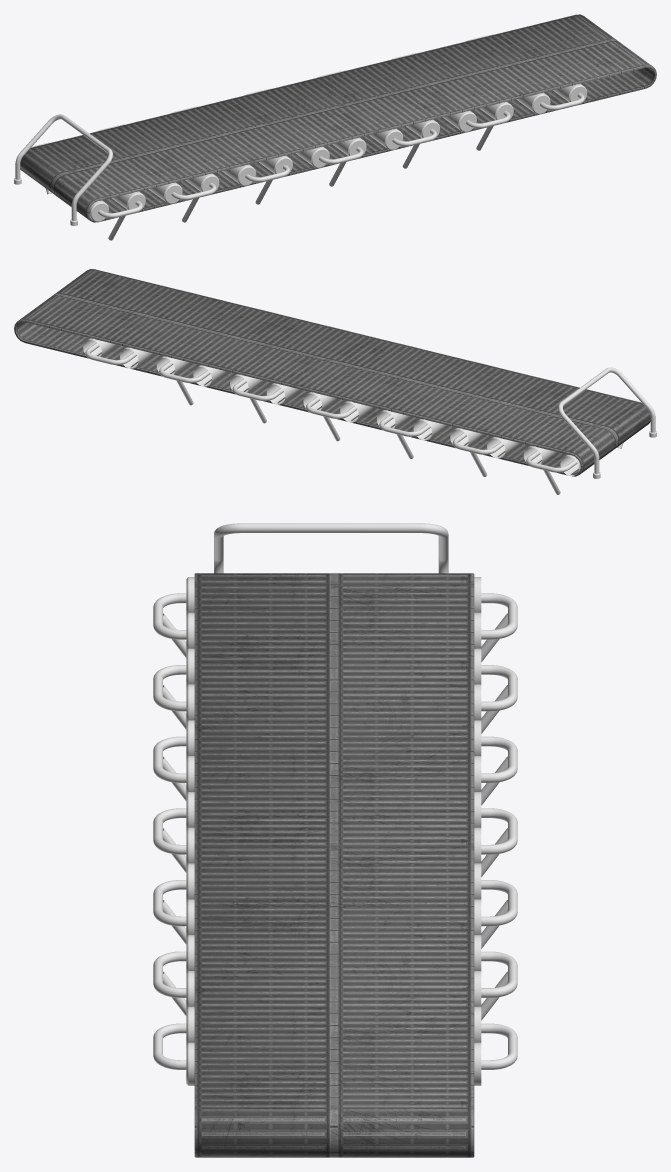
The model's file is ConveyerBelt.fbx.
3 renders of one model, top to bottom at view 1: azimuth 30°, elevation 25°; view 2: azimuth 150°, elevation 25°; view 3: azimuth 270°, elevation 25°, orthographic. The views are drawn at different scales.
Parts seen in each view (by area): view 1: ConveyerBelt, ConveyerSupport, ConveyerRoll.012, ConveyerRoll.008, ConveyerRoll.004, ConveyerRoll.010, ConveyerRoll.002, ConveyerRoll.006, ConveyerRoll.007, ConveyerRoll.011, ConveyerRoll.013, ConveyerRoll.003 (+3 smaller); view 2: ConveyerBelt, ConveyerSupport, ConveyerRoll.006, ConveyerRoll.004, ConveyerRoll.008, ConveyerRoll.010, ConveyerRoll.012, ConveyerRoll.002, ConveyerRoll.003, ConveyerRoll.009, ConveyerRoll.011, ConveyerRoll.013 (+3 smaller); view 3: ConveyerBelt, ConveyerSupport.
Part boxes in pixels (bbox=[...]): ConveyerBelt: bbox=[20, 14, 656, 222]; ConveyerSupport: bbox=[14, 34, 584, 240]; ConveyerRoll.012: bbox=[468, 40, 550, 114]; ConveyerRoll.008: bbox=[320, 76, 403, 150]; ConveyerRoll.004: bbox=[173, 112, 256, 185]; ConveyerRoll.010: bbox=[394, 58, 476, 132]; ConveyerRoll.002: bbox=[99, 130, 182, 203]; ConveyerRoll.006: bbox=[296, 146, 329, 167]; ConveyerRoll.007: bbox=[283, 85, 366, 155]; ConveyerRoll.011: bbox=[430, 49, 513, 119]; ConveyerRoll.013: bbox=[504, 31, 587, 102]; ConveyerRoll.003: bbox=[136, 121, 219, 191]; ConveyerBelt: bbox=[14, 269, 650, 476]; ConveyerSupport: bbox=[85, 290, 656, 494]; ConveyerRoll.006: bbox=[340, 401, 374, 422]; ConveyerRoll.004: bbox=[413, 418, 447, 440]; ConveyerRoll.008: bbox=[266, 383, 300, 404]; ConveyerRoll.010: bbox=[193, 365, 227, 386]; ConveyerRoll.012: bbox=[120, 347, 153, 368]; ConveyerRoll.002: bbox=[487, 436, 520, 458]; ConveyerRoll.003: bbox=[450, 427, 484, 446]; ConveyerRoll.009: bbox=[230, 374, 263, 392]; ConveyerRoll.011: bbox=[156, 356, 190, 374]; ConveyerRoll.013: bbox=[83, 338, 117, 356]; ConveyerBelt: bbox=[194, 573, 474, 1157]; ConveyerSupport: bbox=[153, 523, 517, 1069].
Bounding box in the file's own units: 158 × 22.07 × 43.01.
